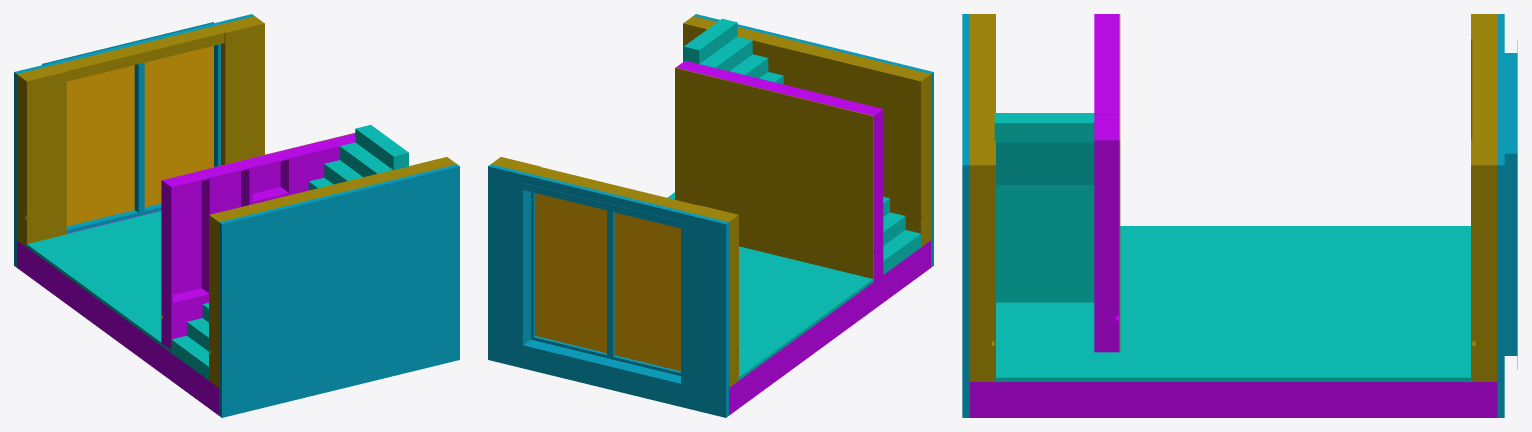
File: span-1_ G-M-stair-parallel.glb
3 views of the same model, side by side, from view 1: azimuth 30°, elevation 25°; view 2: azimuth 150°, elevation 25°; view 3: azimuth 270°, elevation 25° (orthographic). The views are drawn at different scales.
Visible parts, largest first — view 1: 060521.skylark.654, 060521.skylark.655, 060521.skylark.011, 060521.skylark.311, 060521.skylark.203, 060521.skylark.189, 060521.skylark.207, 060521.skylark.326, 060521.skylark.369, 060521.skylark.087, 060521.skylark.790, 060521.skylark.146 (+15 smaller); view 2: 060521.skylark.655, 060521.skylark.654, 060521.skylark.667, 060521.skylark.317, 060521.skylark.053, 060521.skylark.052, 060521.skylark.054, 060521.skylark.058, 060521.skylark.790, 060521.skylark.083, 060521.skylark.055, 060521.skylark.413 (+18 smaller); view 3: 060521.skylark.416, 060521.skylark.820, 060521.skylark.685, 060521.skylark.431, 060521.skylark.451, 060521.skylark.413, 060521.skylark.599, 060521.skylark.607, 060521.skylark.701, 060521.skylark.667, 060521.skylark.629, 060521.skylark.224 (+10 smaller).
Boxes of the visible parts, bbox=[...] form: 060521.skylark.654: bbox=[66, 65, 134, 226]; 060521.skylark.655: bbox=[144, 46, 213, 207]; 060521.skylark.011: bbox=[162, 170, 210, 349]; 060521.skylark.311: bbox=[219, 212, 261, 390]; 060521.skylark.203: bbox=[259, 203, 301, 380]; 060521.skylark.189: bbox=[378, 174, 420, 351]; 060521.skylark.207: bbox=[338, 183, 380, 361]; 060521.skylark.326: bbox=[417, 164, 459, 341]; 060521.skylark.369: bbox=[299, 193, 340, 370]; 060521.skylark.087: bbox=[26, 71, 66, 243]; 060521.skylark.790: bbox=[17, 240, 218, 415]; 060521.skylark.146: bbox=[224, 23, 264, 164]; 060521.skylark.655: bbox=[535, 193, 606, 353]; 060521.skylark.654: bbox=[614, 212, 680, 371]; 060521.skylark.667: bbox=[516, 181, 687, 392]; 060521.skylark.317: bbox=[686, 212, 728, 390]; 060521.skylark.053: bbox=[833, 106, 873, 278]; 060521.skylark.052: bbox=[794, 96, 833, 269]; 060521.skylark.054: bbox=[754, 87, 793, 259]; 060521.skylark.058: bbox=[714, 77, 754, 249]; 060521.skylark.790: bbox=[729, 240, 930, 415]; 060521.skylark.083: bbox=[881, 71, 921, 243]; 060521.skylark.055: bbox=[675, 67, 714, 208]; 060521.skylark.413: bbox=[738, 244, 921, 380]; 060521.skylark.416: bbox=[996, 302, 1470, 352]; 060521.skylark.820: bbox=[969, 382, 1497, 417]; 060521.skylark.685: bbox=[994, 113, 1094, 302]; 060521.skylark.431: bbox=[1120, 251, 1470, 301]; 060521.skylark.451: bbox=[994, 352, 1472, 381]; 060521.skylark.413: bbox=[1120, 226, 1470, 251]; 060521.skylark.599: bbox=[969, 140, 994, 381]; 060521.skylark.607: bbox=[1472, 140, 1497, 381]; 060521.skylark.701: bbox=[1094, 115, 1118, 352]; 060521.skylark.667: bbox=[1504, 40, 1517, 369]; 060521.skylark.629: bbox=[1472, 39, 1497, 140]; 060521.skylark.224: bbox=[1497, 140, 1504, 381].
Size of the model in its own units: 3.6 by 3 by 5.58.
